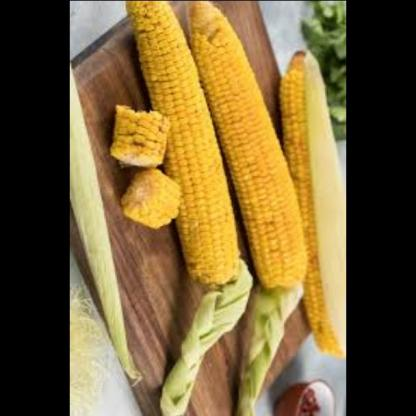corn: (175, 0, 316, 297), (126, 0, 243, 294), (276, 51, 347, 357), (106, 96, 173, 172), (116, 162, 189, 227)
